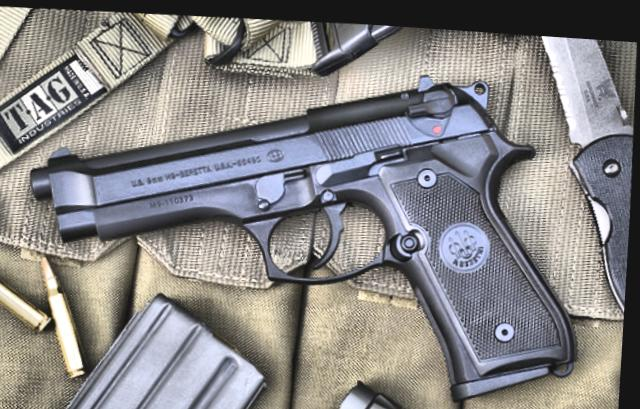pistol: (19, 42, 590, 403)
